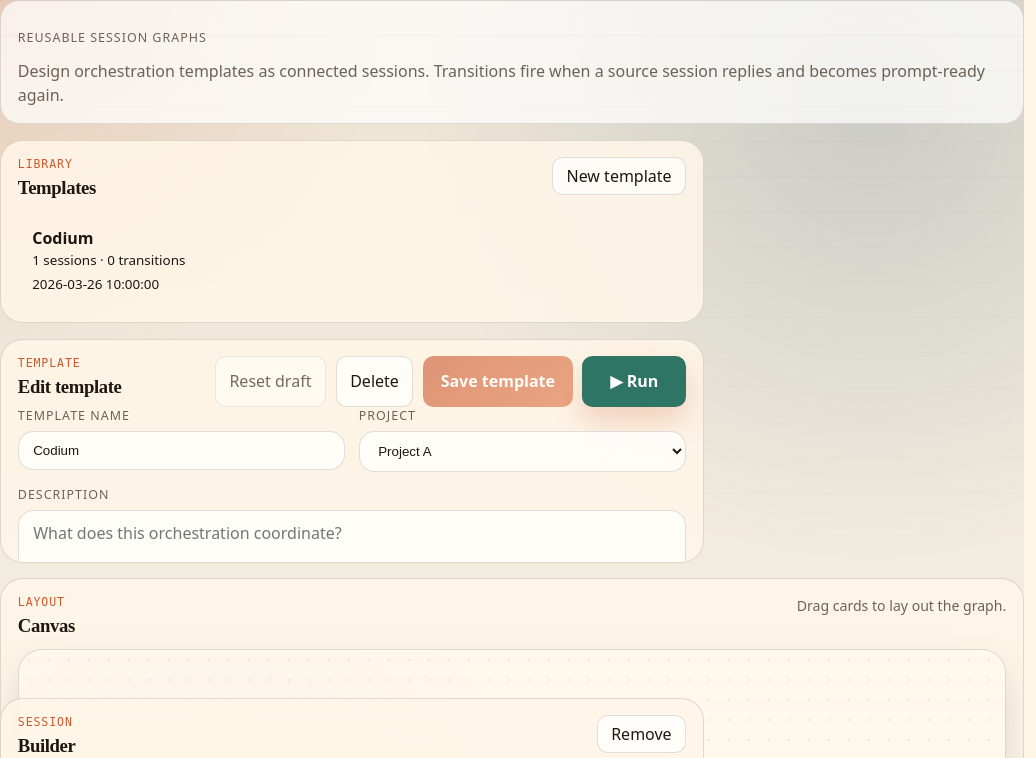
Test case: OrchestratorTemplatesPanel › clears Saving and re-enables Run after save in StrictMode
Check: the field showing "Codium" is shown, box [18,431,345,470]
Type "Code factory" into the text box labelled "Description". click: (352, 556)
box: [18,510,686,603]
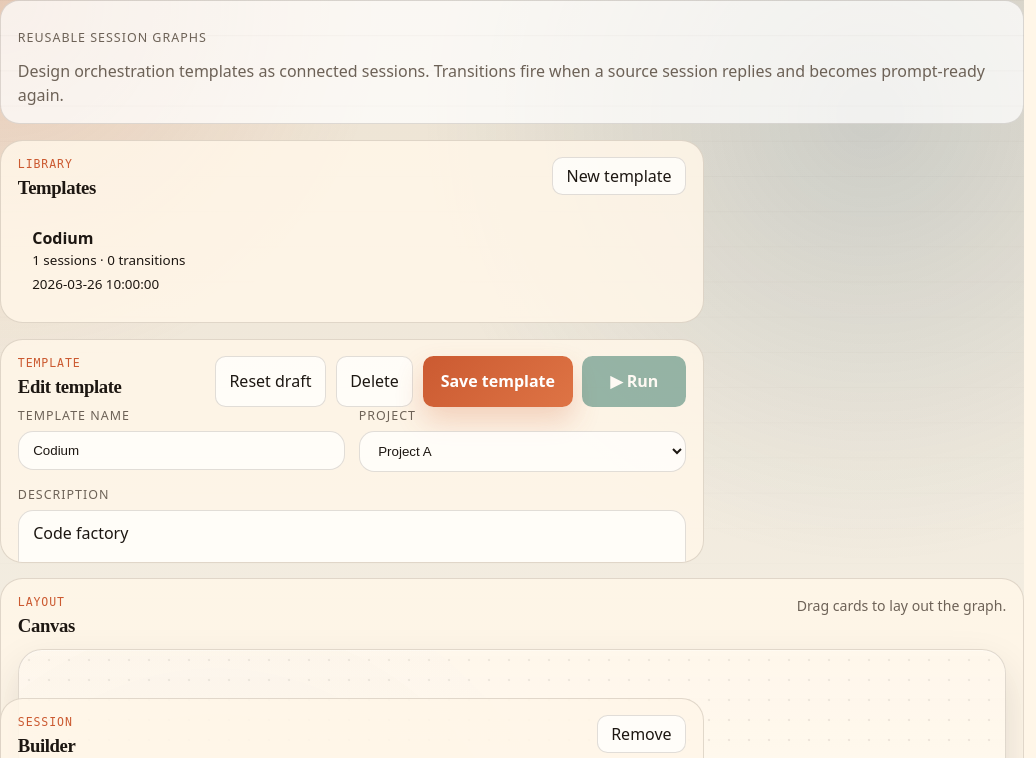
Click the button "Save template". click: (498, 381)
box: [423,356,573,407]
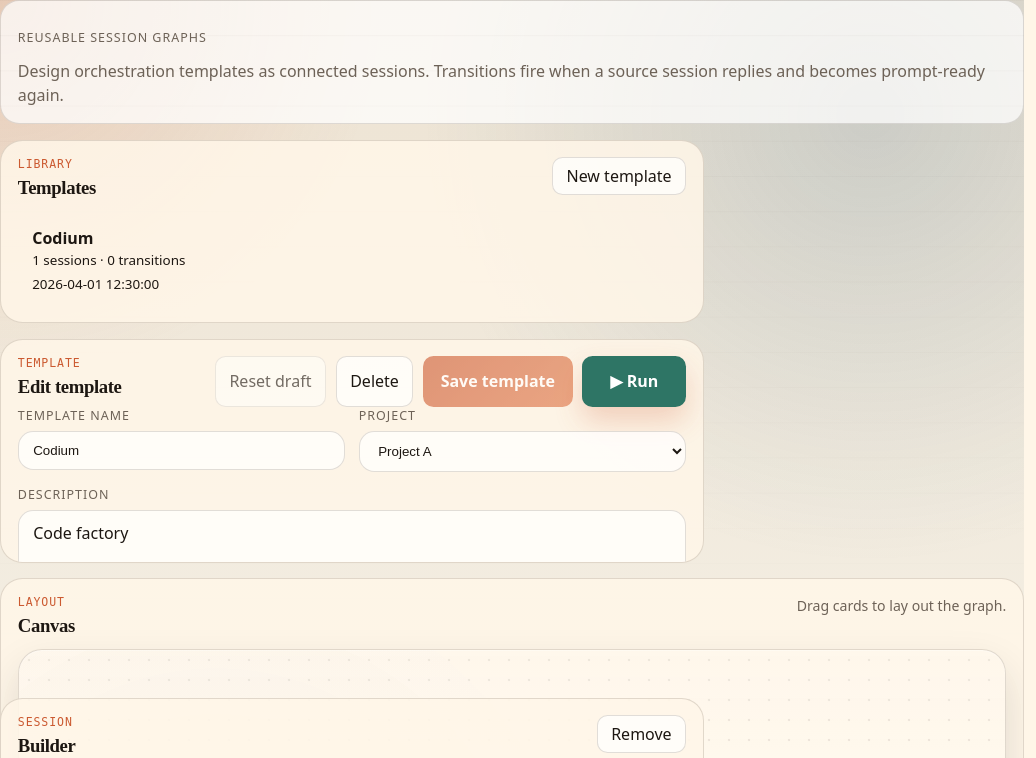
Check: the text "Template saved." is shown, box [18,604,125,623]
Check: the button "Save template" is disabled, box [423,356,573,407]
Check: the button "▶ Run" is enabled, box [582,356,686,407]
